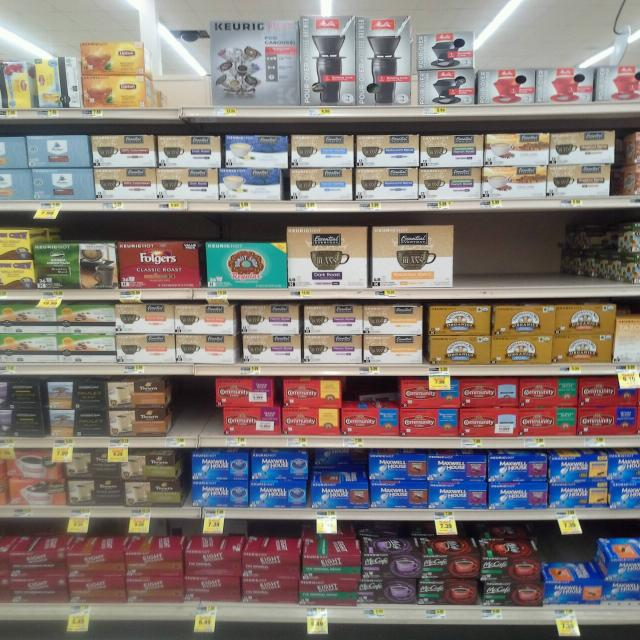void: (467, 215, 563, 287), (152, 17, 209, 102), (176, 382, 212, 432)
